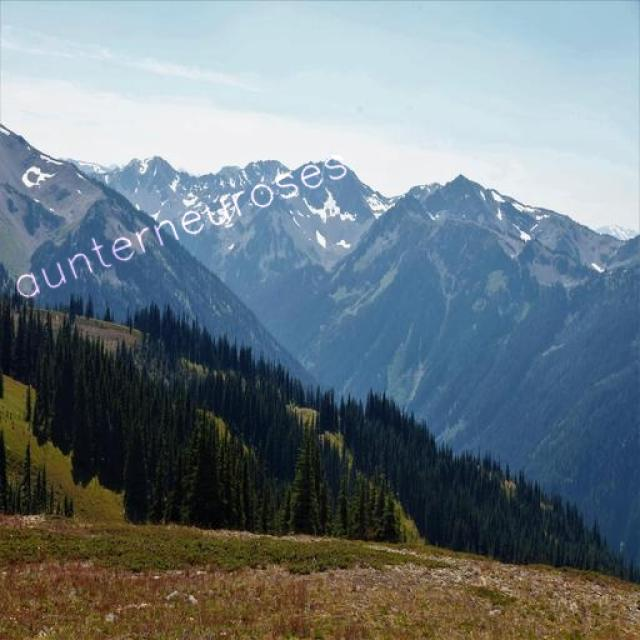watermark: (7, 138, 350, 309)
